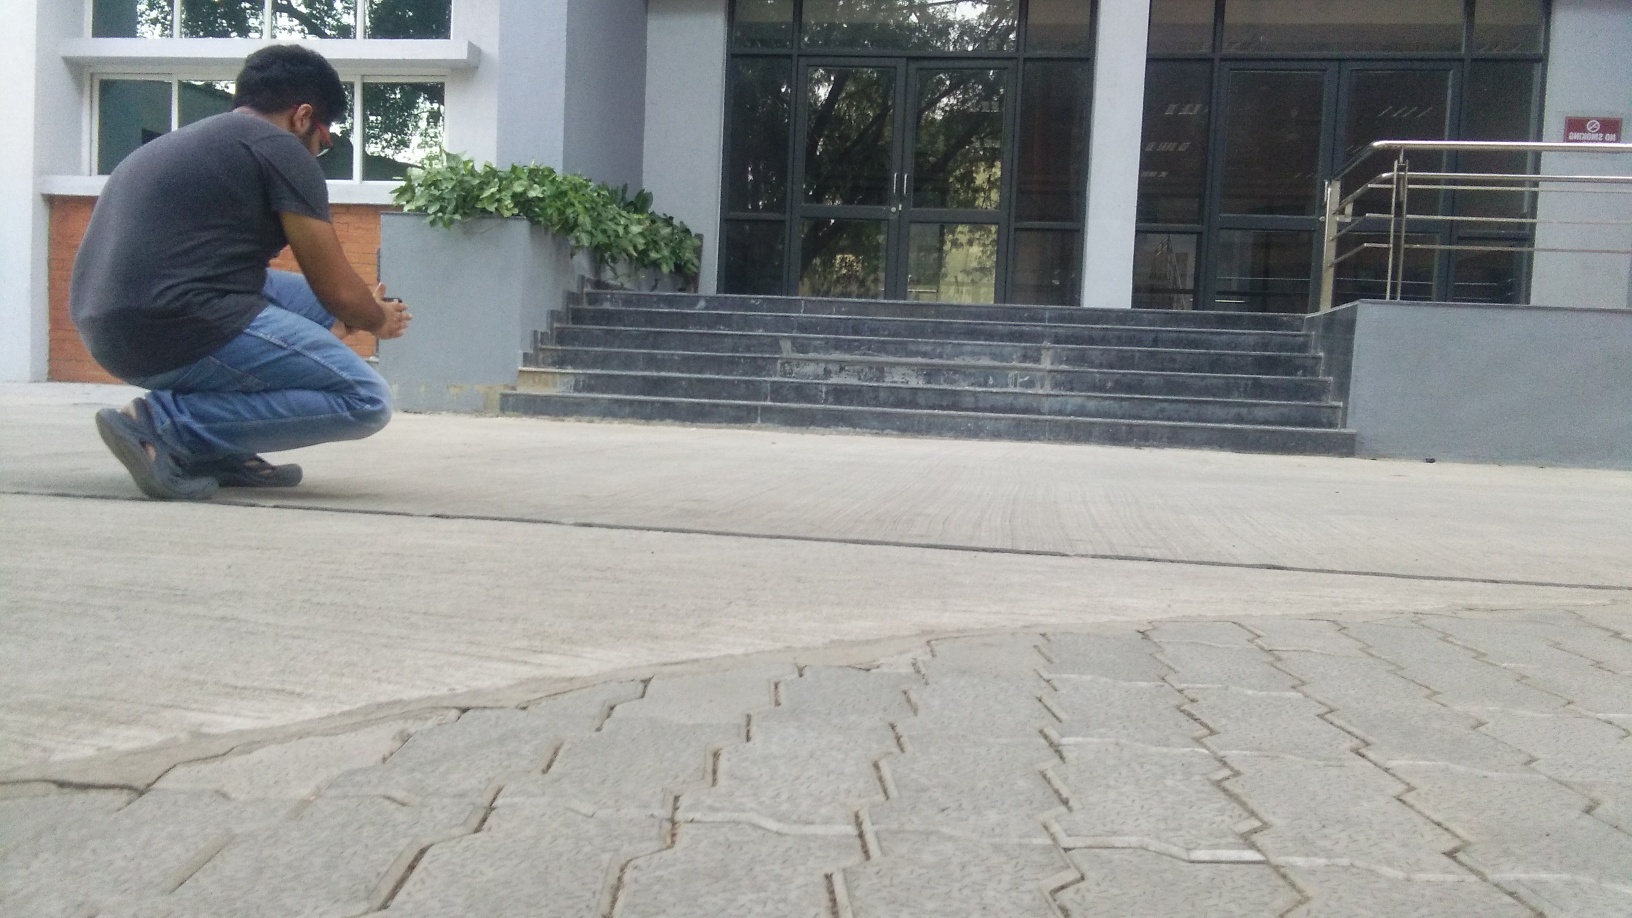stairs_up: (490, 308, 1341, 425)
